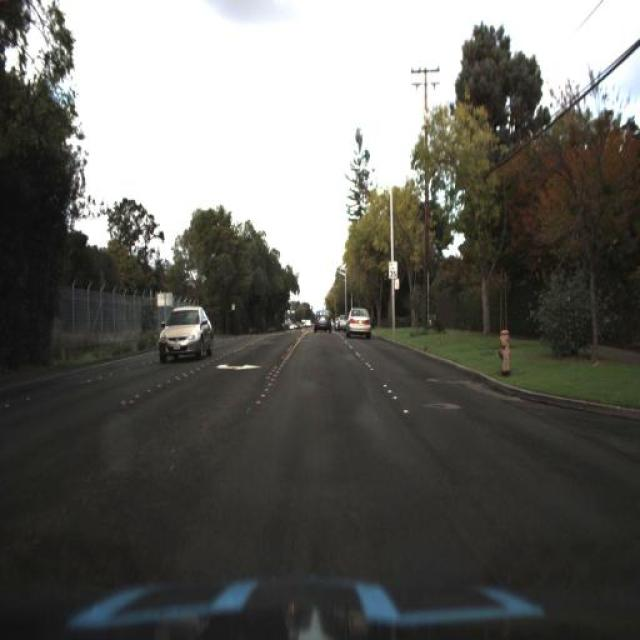car: (155, 304, 214, 366), (342, 306, 372, 342), (308, 305, 334, 340), (335, 313, 349, 331)
